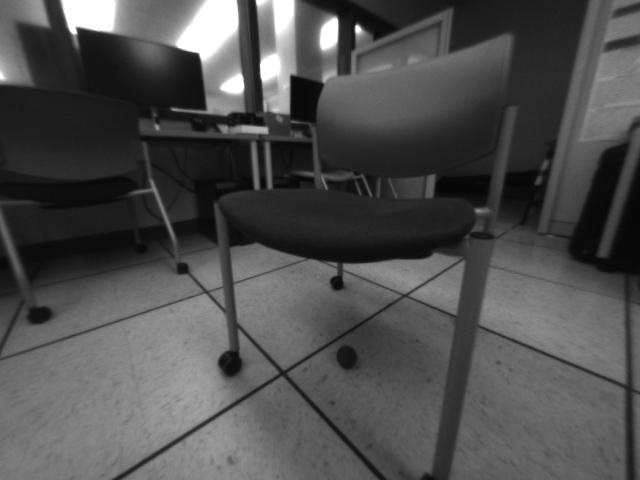dogtoy: (333, 341, 363, 374)
